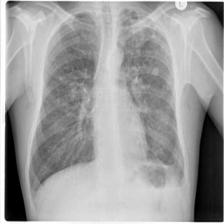tuberculosis: (25, 7, 189, 201)
